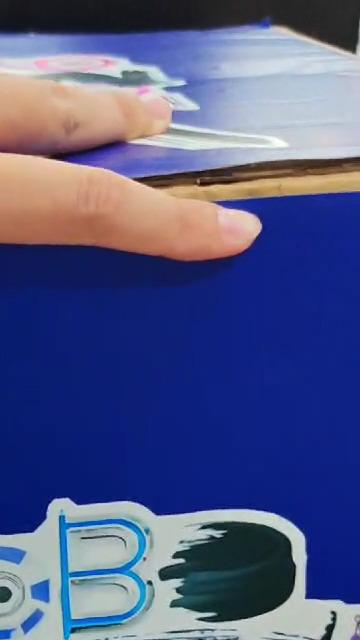B_R1: (0, 495, 359, 640)
